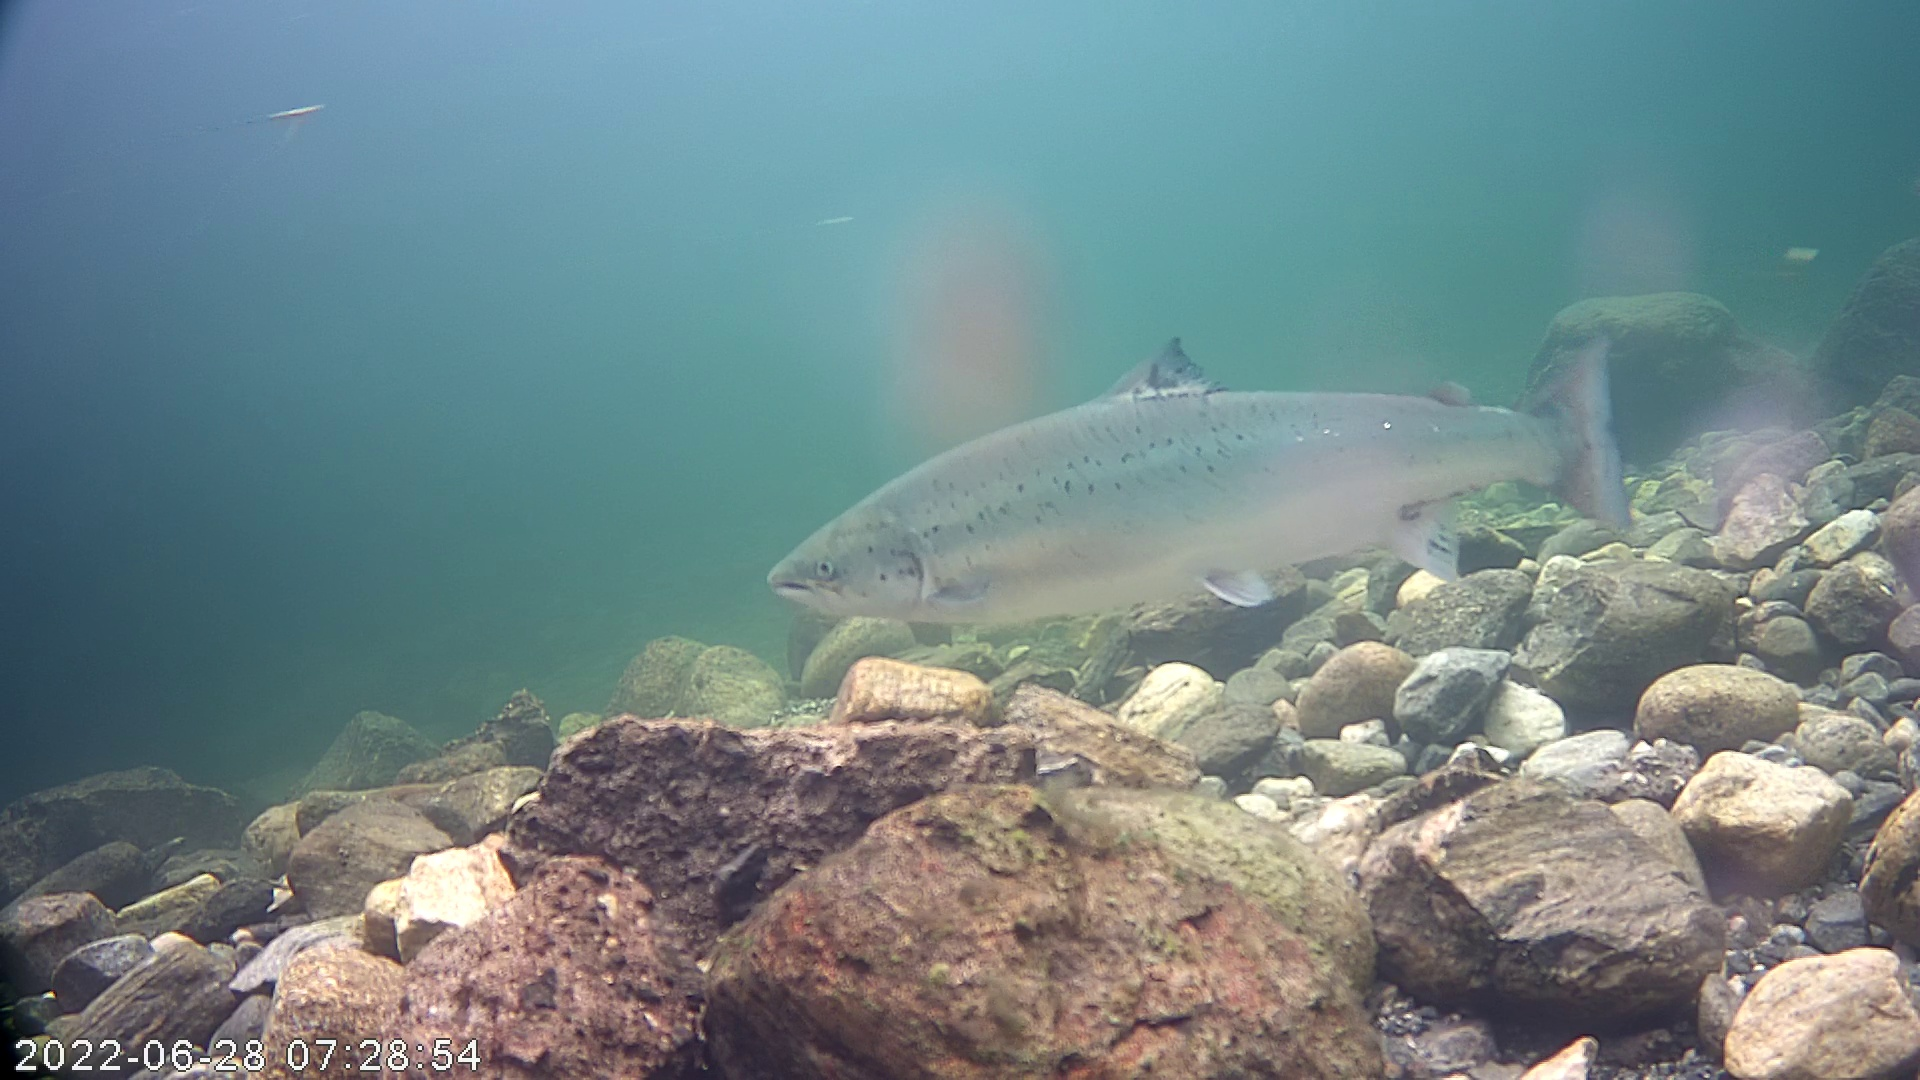salmon: (762, 241, 1656, 682)
